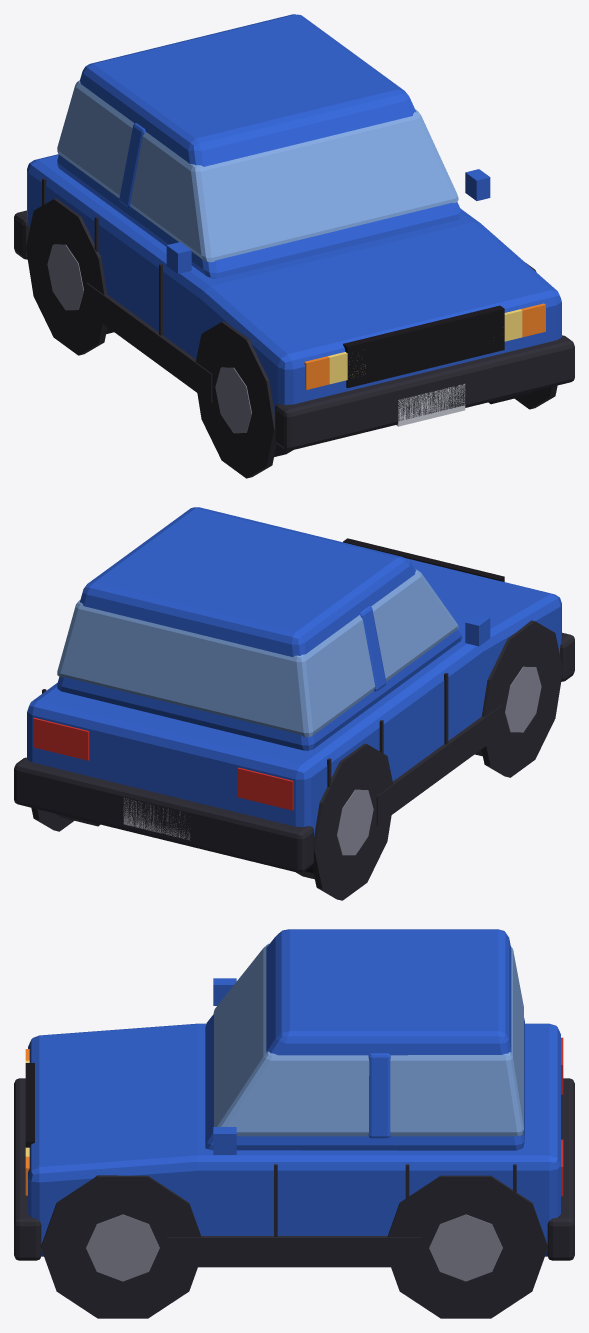
File: hatchback.glb
3 views of the same model, one above another, from view 1: azimuth 30°, elevation 25°; view 2: azimuth 150°, elevation 25°; view 3: azimuth 270°, elevation 25° (orthographic). The views are drawn at different scales.
Visible parts, largest first — view 1: Hatchback; view 2: Hatchback; view 3: Hatchback.
Part boxes in pixels (x1,y1,x2,y2): Hatchback: (14,14,574,478); Hatchback: (14,507,574,900); Hatchback: (14,929,574,1318).
Size of the model in its own units: 1.59 by 1.27 by 2.42.
1 material, 1 textured.
